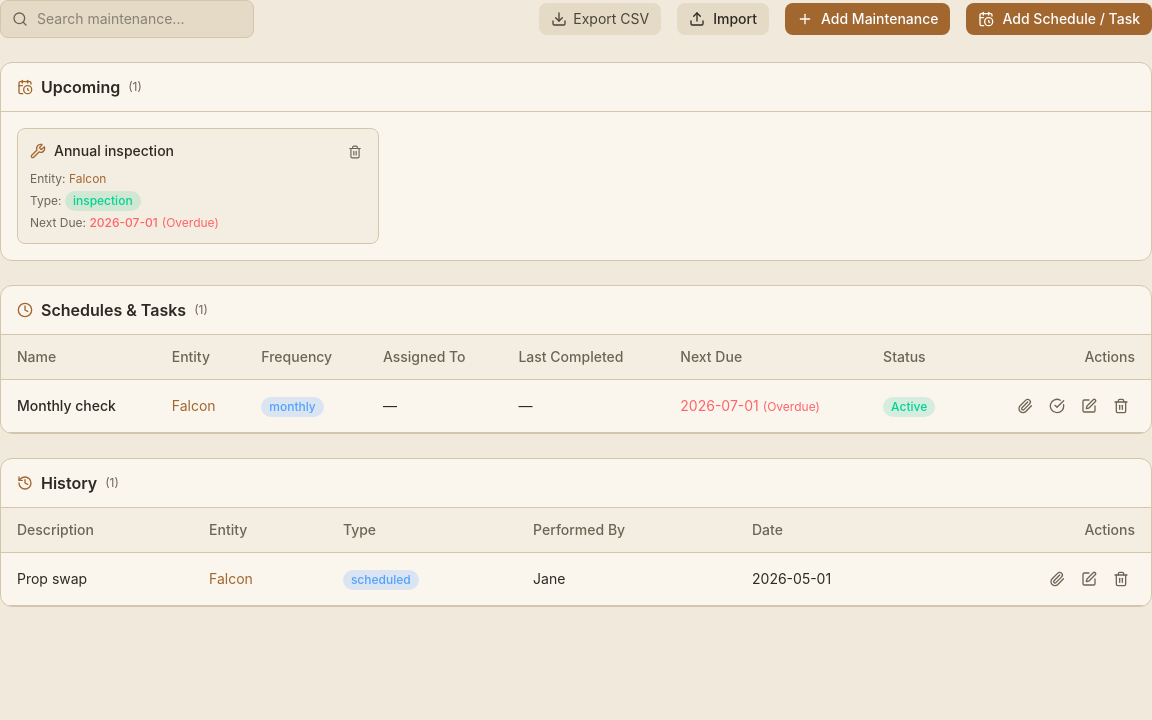
Scenario: MaintenancePage › blocks submitting an edit with a changed type but no entity selected
Expected: the text "Prop swap" is shown, [1,552,193,606]
Click the button titled "Edit": point(1089, 579) [1075,565,1103,593]
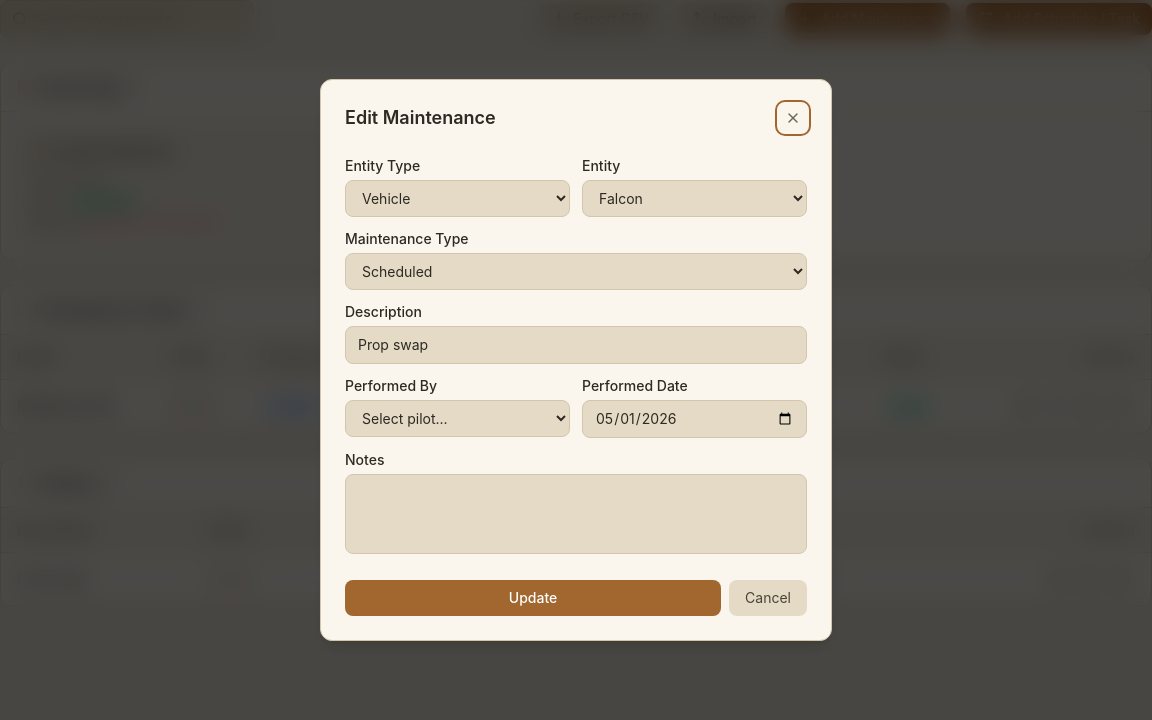
Result: the heading "Edit Maintenance" is shown at [345,104,496,132]
Select "Battery" in the dropdown labelled "Entity Type": point(458, 198) [345,180,570,217]
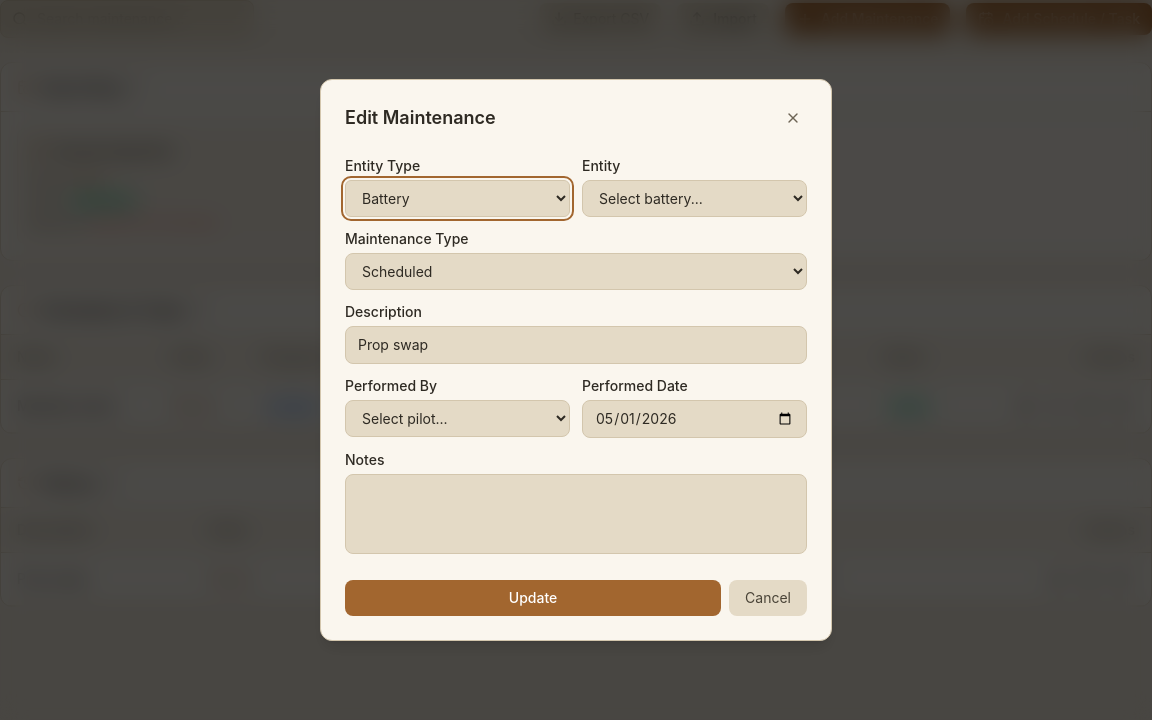
Click the button "Update": point(533, 598) [345,580,721,616]
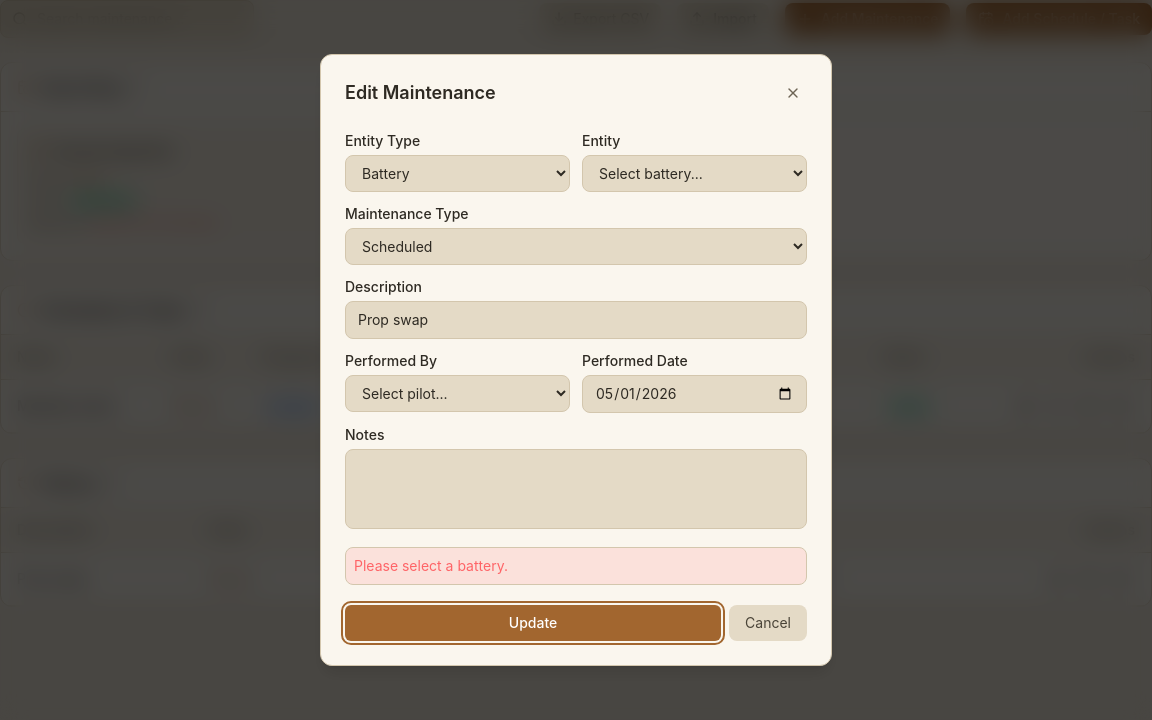
Result: the text "Please select a battery." is shown at [345,547,807,585]
